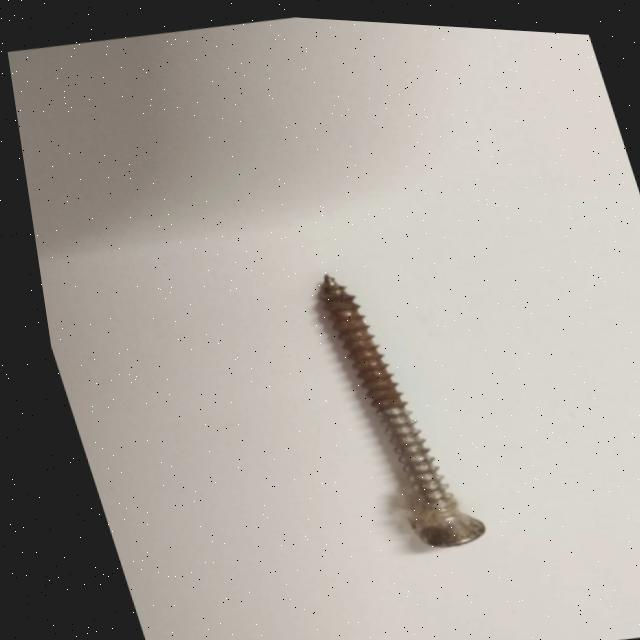corrosion: (297, 262, 400, 421)
